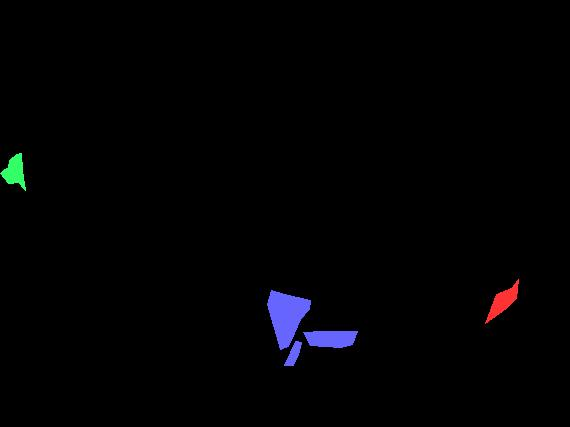Broken part: (0, 153, 25, 190)
Missing part: (485, 279, 518, 323)
Scratch: (267, 290, 310, 349), (303, 331, 357, 347), (284, 341, 301, 365)
